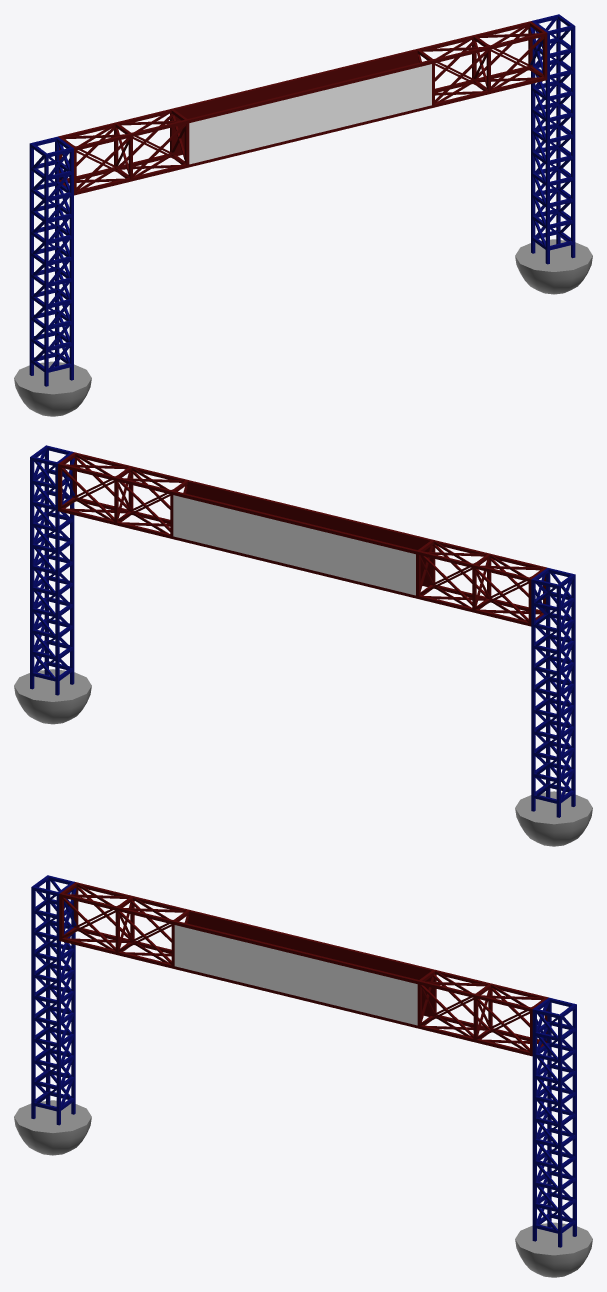
Rendered from sea_Pl.FBX.
3 renders of one model, top to bottom at view 1: azimuth 30°, elevation 25°; view 2: azimuth 150°, elevation 25°; view 3: azimuth 330°, elevation 25°, orthographic.
Visible parts, largest first — view 1: Capsule002; view 2: Capsule002; view 3: Capsule002.
Part boxes in pixels (<box>): Capsule002: <box>14,14,592,416</box>; Capsule002: <box>14,445,592,846</box>; Capsule002: <box>14,875,592,1277</box>.
Size of the model in its own units: 1012 by 454 by 120.
